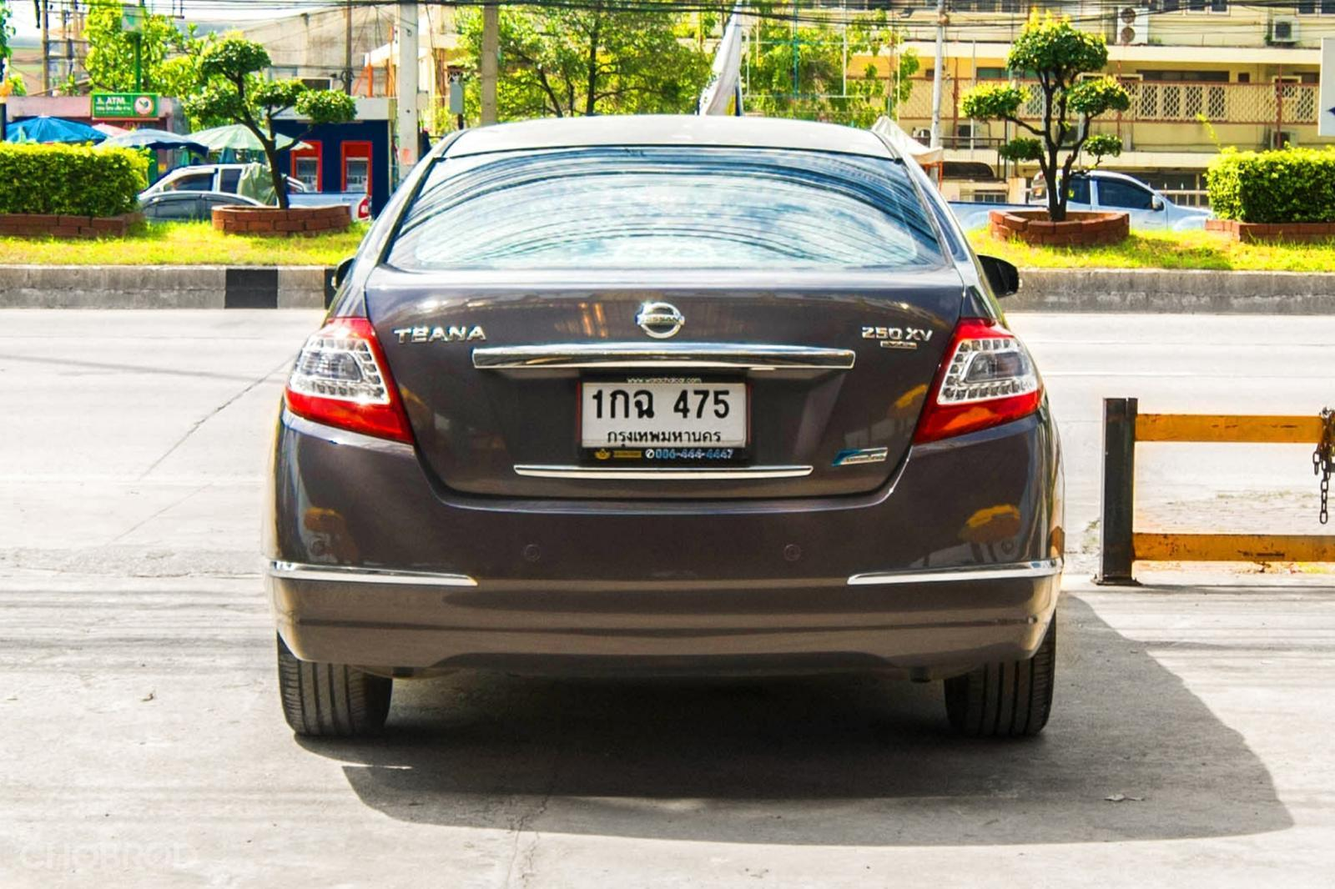license-plate: (570, 359, 775, 468)
